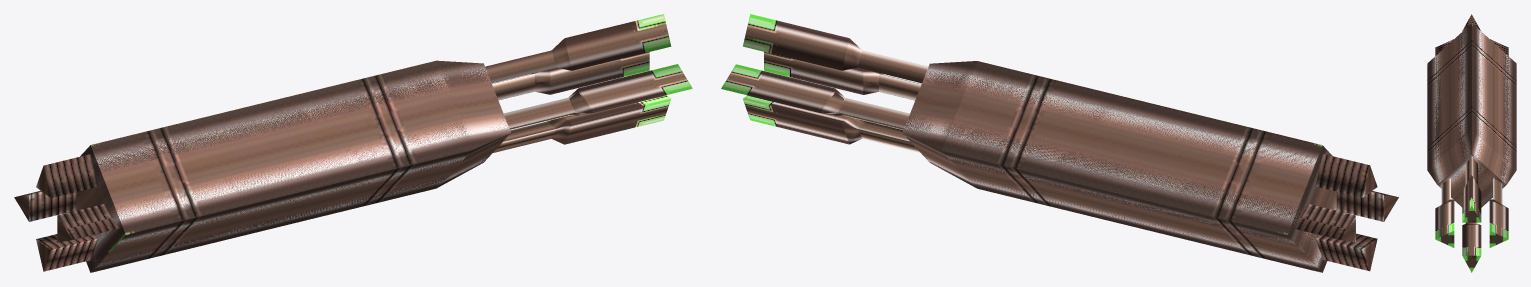
3 views of the same model, side by side, from view 1: azimuth 30°, elevation 25°; view 2: azimuth 150°, elevation 25°; view 3: azimuth 270°, elevation 25° (orthographic). The views are drawn at different scales.
Visible parts, largest first — view 1: BW104; view 2: BW104; view 3: BW104.
Boxes of the visible parts, left/top/right/bottom form: BW104: left=14, top=14, right=692, bottom=272; BW104: left=721, top=14, right=1398, bottom=272; BW104: left=1427, top=14, right=1516, bottom=272.
Size of the model in its own units: 14.35 by 2.83 by 2.83.
1 material, 1 textured.
